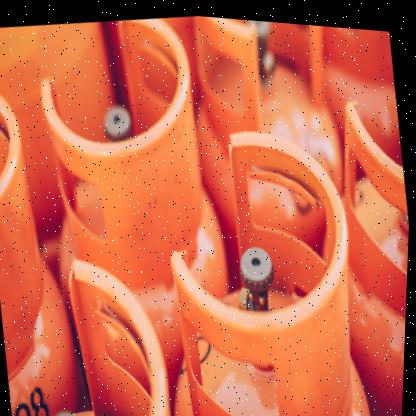gas-tank: (11, 1, 260, 409), (142, 98, 395, 415), (179, 12, 362, 248), (0, 44, 102, 415), (0, 232, 191, 415), (318, 78, 414, 415)
